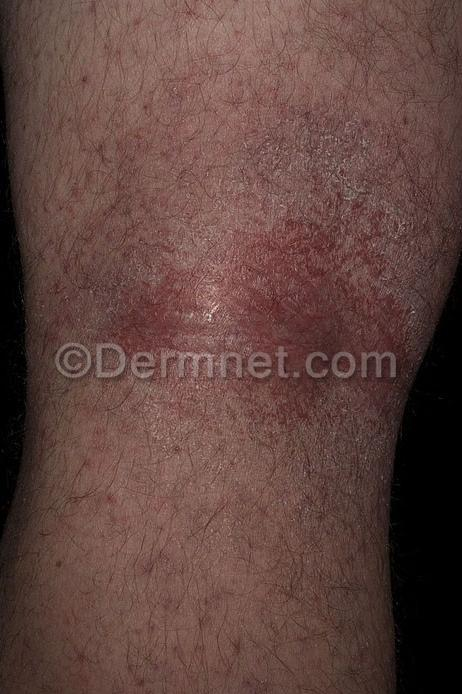eritema 3: (101, 189, 405, 428)
xerosis 1: (86, 143, 300, 346), (118, 383, 401, 504), (271, 106, 430, 251)
